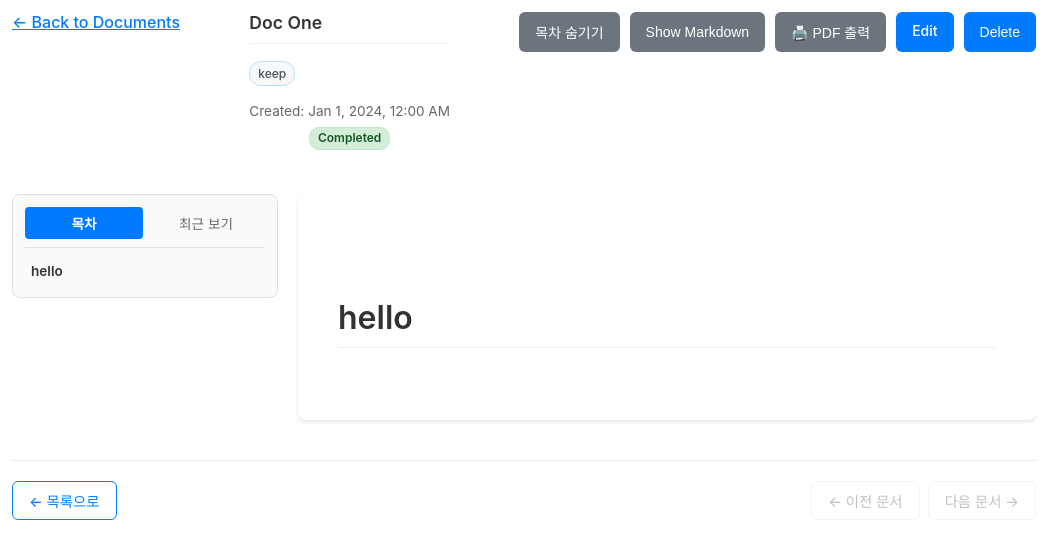
Test case: DocumentView › table of contents sidebar › shows the TOC panel again when toggled back on
Expected: the heading "Doc One" is shown, [249,12,322,33]
What coordinates should you click on to do the following:
click the button "목차 숨기기"
I would click on:
 (569, 32)
Its box is [519,12,620,52].
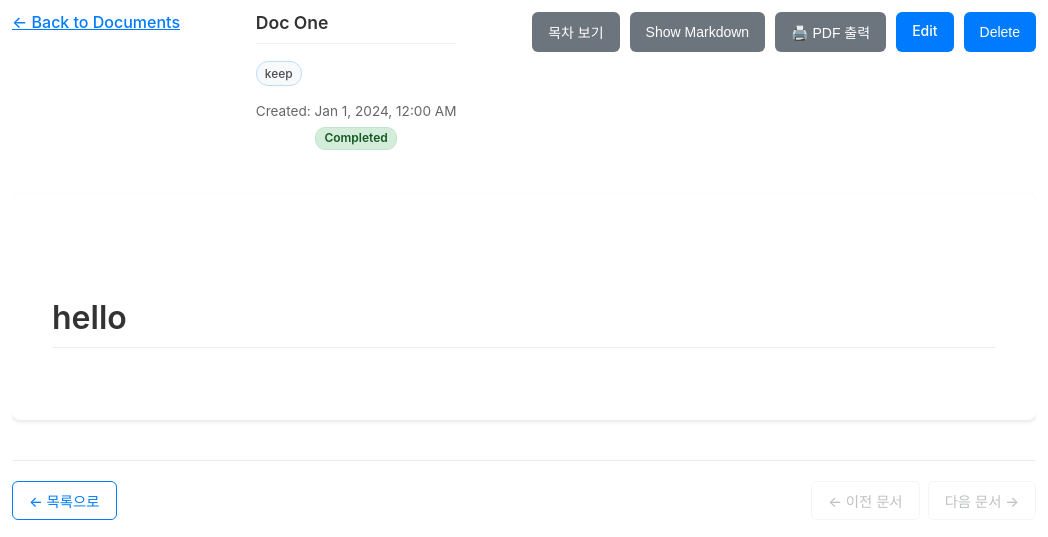
What coordinates should you click on to do the following:
click the button "목차 보기"
I would click on:
 (576, 32)
Its box is [532,12,620,52].
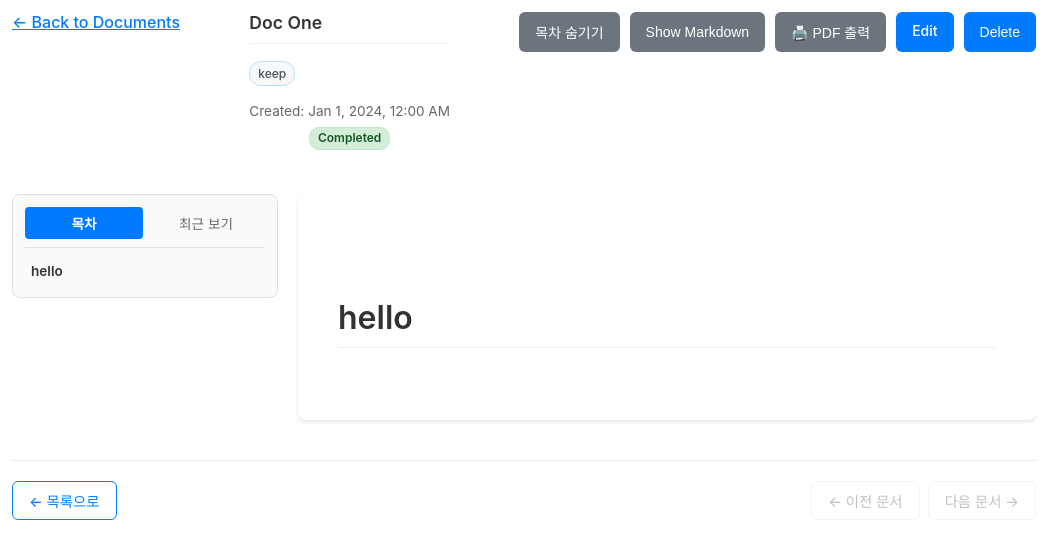
Result: the navigation bar with class "document-toc" is shown at [12,194,278,298]
